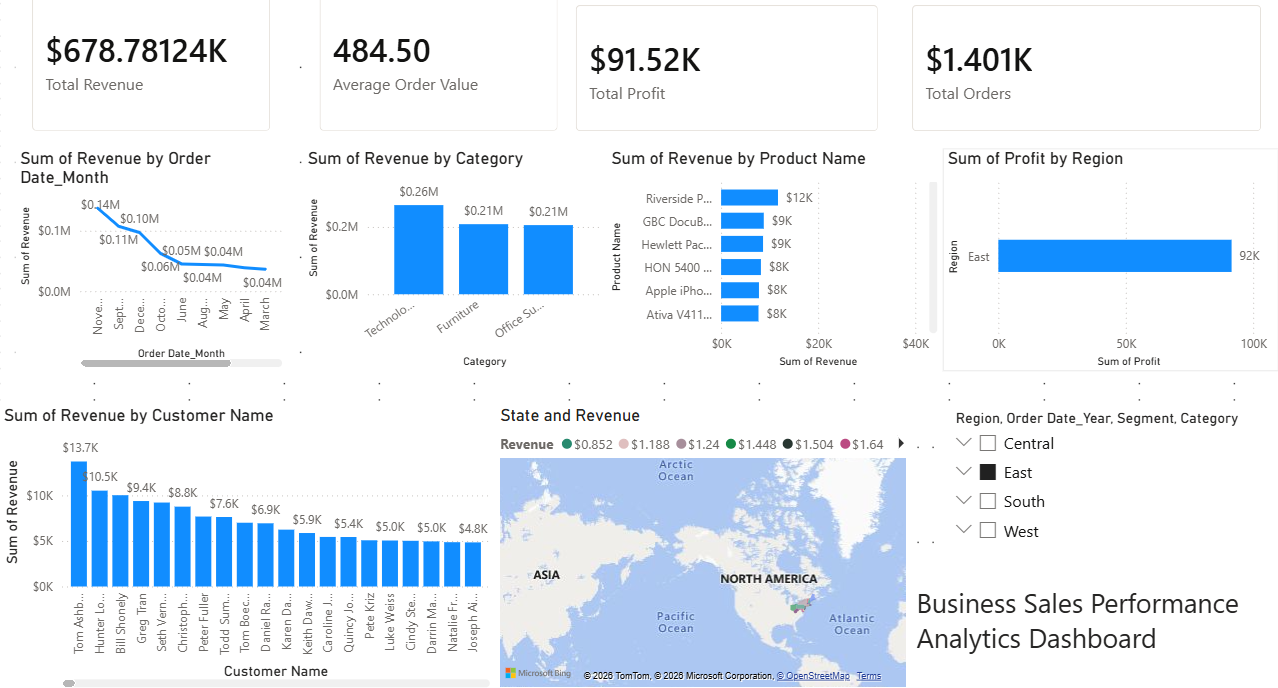

The dashboard page shown, as its layout file describes it:
{"tool":"powerbi","page":{"name":"Page 1","canvas":[1280,720],"ordinal":0},"visuals":[{"type":"cardVisual","fields":{"Data":["cleaned_superstore.Total Revenue","cleaned_superstore.Total Revenue"]},"box":[16,0,272,176],"z":0},{"type":"cardVisual","fields":{"Data":["cleaned_superstore.Total Profit"]},"box":[560,16,336,160],"z":1000},{"type":"cardVisual","fields":{"Data":["cleaned_superstore.Average Order Value"]},"box":[304,0,272,176],"z":3000},{"type":"lineChart","fields":{"Category":["cleaned_superstore.Order Date_Month"],"Y":["Sum(cleaned_superstore.Revenue)"]},"box":[16,176,272,224],"z":4000},{"type":"columnChart","fields":{"Category":["cleaned_superstore.Category"],"Y":["Sum(cleaned_superstore.Revenue)"]},"box":[304,176,304,224],"z":5000},{"type":"clusteredBarChart","fields":{"Y":["Sum(cleaned_superstore.Revenue)"],"Category":["cleaned_superstore.Product Name"]},"box":[608,176,336,224],"z":6000},{"type":"barChart","fields":{"Category":["cleaned_superstore.Region"],"Y":["Sum(cleaned_superstore.Profit)"]},"box":[944,176,336,224],"z":7000},{"type":"columnChart","fields":{"Category":["cleaned_superstore.Customer Name"],"Y":["Sum(cleaned_superstore.Revenue)"]},"box":[0,432,496,288],"z":8000},{"type":"filledMap","fields":{"Category":["cleaned_superstore.State"],"Series":["cleaned_superstore.Revenue"]},"box":[496,432,416,288],"z":9000},{"type":"slicer","fields":{"Values":["cleaned_superstore.Region","cleaned_superstore.Order Date_Year","cleaned_superstore.Segment","cleaned_superstore.Category"]},"box":[944,432,336,288],"z":10000},{"type":"textbox","box":[912,608,368,112],"z":11000},{"type":"cardVisual","fields":{"Data":["cleaned_superstore.Total Orders"]},"box":[896,16,384,160],"z":11001}]}

Visuals, with their boxes on the page's 1280x720 design canvas (x1, y1, x2, y2). These are canvas units, not pixel positions in the 1278x688 screenshot, which may show the page scaled, cropped or inside an application window:
cardVisual - cleaned_superstore.Total Revenue x cleaned_superstore.Total Revenue: bbox=[16, 0, 288, 176]
cardVisual - cleaned_superstore.Total Profit: bbox=[560, 16, 896, 176]
cardVisual - cleaned_superstore.Average Order Value: bbox=[304, 0, 576, 176]
lineChart - cleaned_superstore.Order Date_Month x Sum(cleaned_superstore.Revenue): bbox=[16, 176, 288, 400]
columnChart - cleaned_superstore.Category x Sum(cleaned_superstore.Revenue): bbox=[304, 176, 608, 400]
clusteredBarChart - Sum(cleaned_superstore.Revenue) x cleaned_superstore.Product Name: bbox=[608, 176, 944, 400]
barChart - cleaned_superstore.Region x Sum(cleaned_superstore.Profit): bbox=[944, 176, 1280, 400]
columnChart - cleaned_superstore.Customer Name x Sum(cleaned_superstore.Revenue): bbox=[0, 432, 496, 720]
filledMap - cleaned_superstore.State x cleaned_superstore.Revenue: bbox=[496, 432, 912, 720]
slicer - cleaned_superstore.Region x cleaned_superstore.Order Date_Year: bbox=[944, 432, 1280, 720]
textbox: bbox=[912, 608, 1280, 720]
cardVisual - cleaned_superstore.Total Orders: bbox=[896, 16, 1280, 176]
